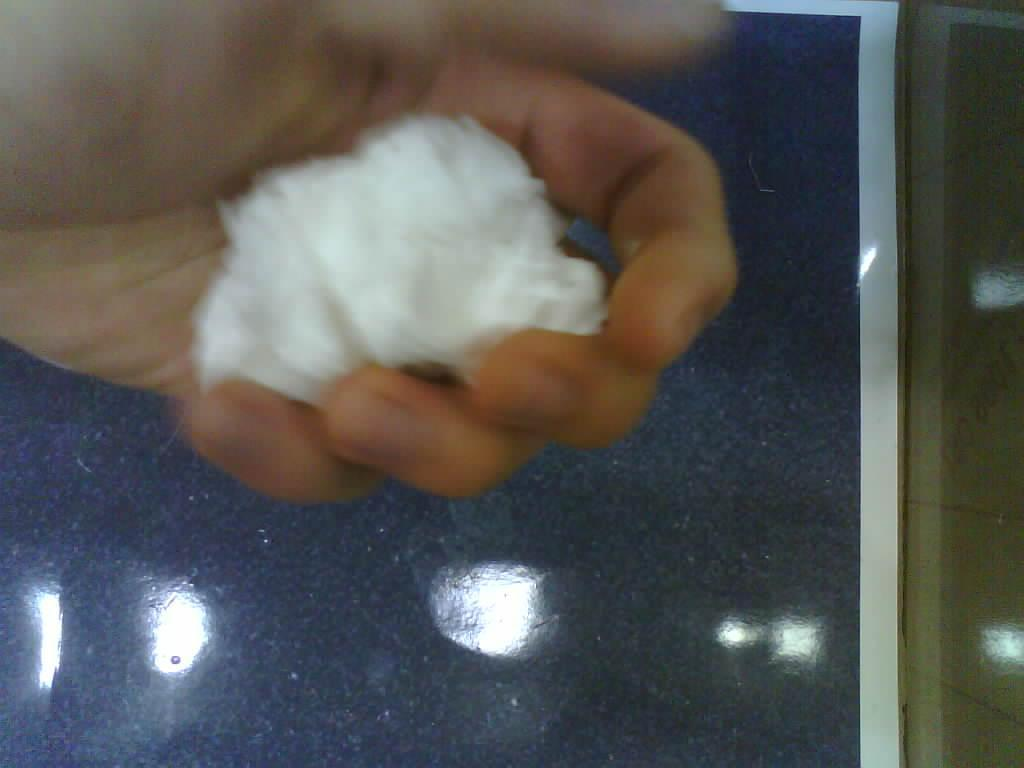paper: (190, 116, 606, 414)
